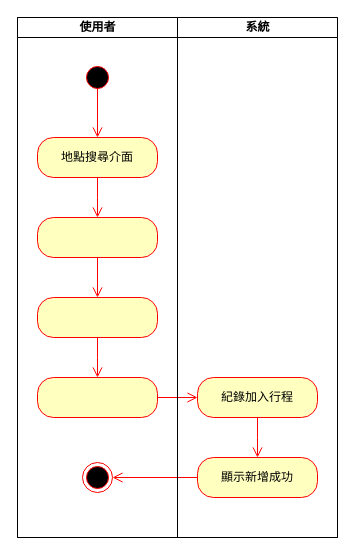
Some shapes in this 355 by 555 pixel diagram are drawn without their labels. The shapes that lost their labels are listed below. From the top down, each one's centre as x and y in pixels, then its label:
At point (97, 237): "選擇地點".
At point (97, 317): "點選加入行程".
At point (97, 397): "選取要放入之 行程 列表".
